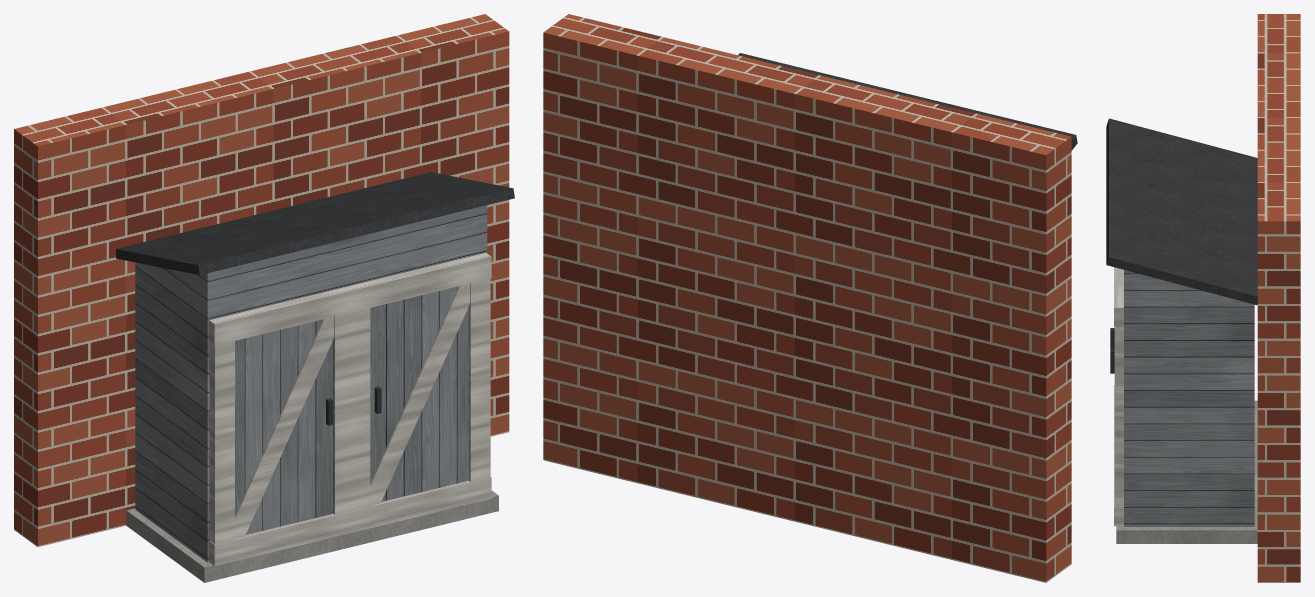
Rendered from lean-to-shed.glb.
The picture shows the model from 3 angles, left to right: view 1: azimuth 30°, elevation 25°; view 2: azimuth 150°, elevation 25°; view 3: azimuth 270°, elevation 25°; orthographic projection. The views are drawn at different scales.
Visible parts, largest first — view 1: Lean_To_Shed; view 2: Lean_To_Shed; view 3: Lean_To_Shed.
Part boxes in pixels (bbox=[...]): Lean_To_Shed: bbox=[14, 14, 514, 582]; Lean_To_Shed: bbox=[543, 14, 1077, 582]; Lean_To_Shed: bbox=[1106, 14, 1300, 582].
Bounding box in the file's own units: 3.2 × 2.6 × 1.27.
Materials: 6 (5 with a texture image).
